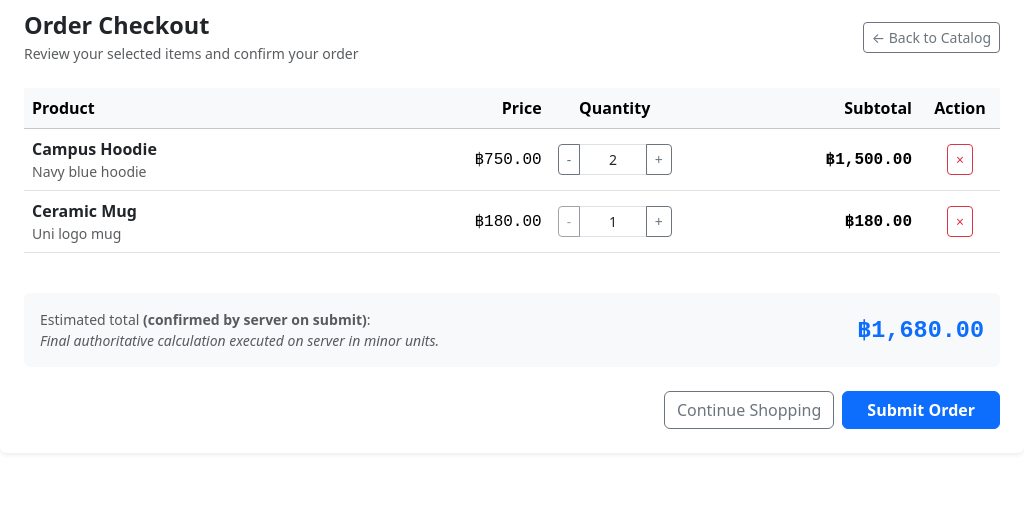
Test case: Issue #11: Checkout & Order Submission UI (F-03 / AC-06..AC-10) › displays server rejection error clearly when product is out of stock
Click the button with test id "submit-order-button" at point(921, 410), box [842,391,1000,429]
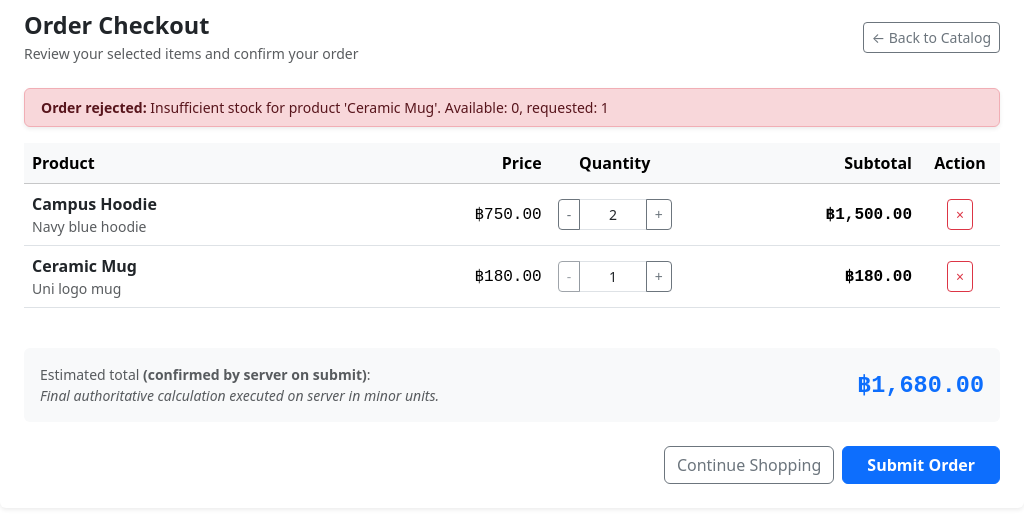
Expected: the message with test id "checkout-error" is shown, [24,88,1000,127]
Expected: the text "Insufficient stock for product 'Ceramic Mug'" is shown, [150,98,609,117]
